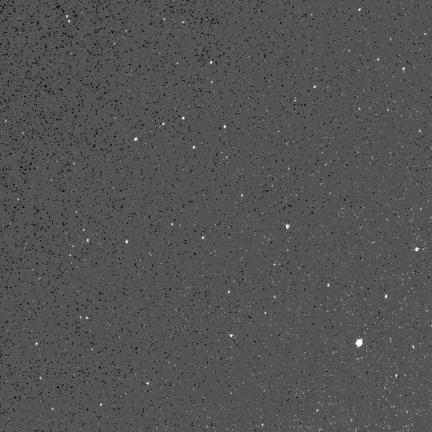blob: (135, 138, 137, 141)
